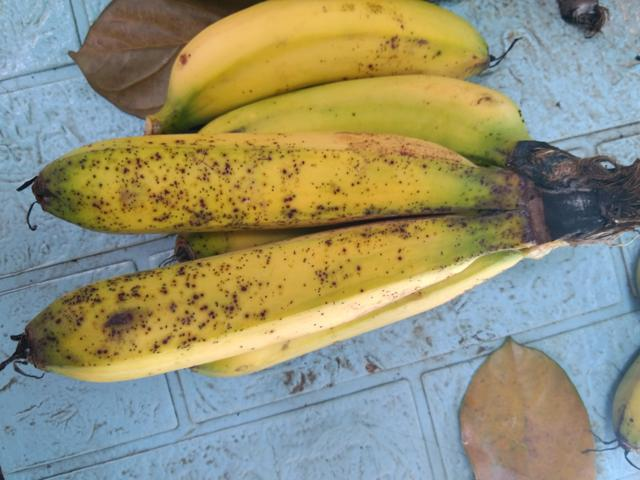ripe: (6, 214, 455, 397), (46, 112, 486, 258), (129, 0, 517, 112)
